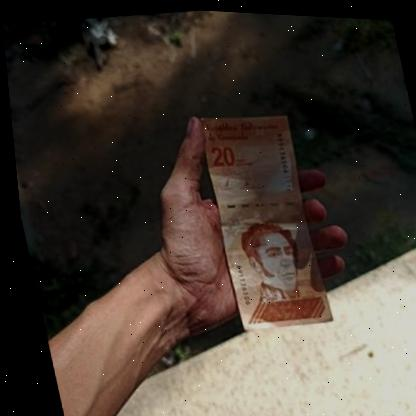twenty-front-vef: (191, 102, 328, 333)
